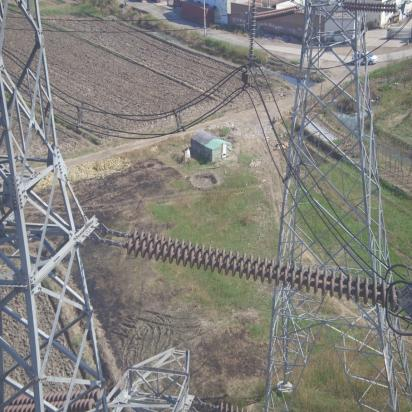insulator: (113, 229, 402, 311), (338, 1, 402, 14), (255, 5, 303, 21)
